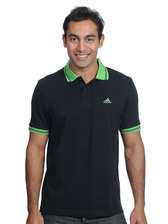clothoes: (24, 56, 144, 218)
